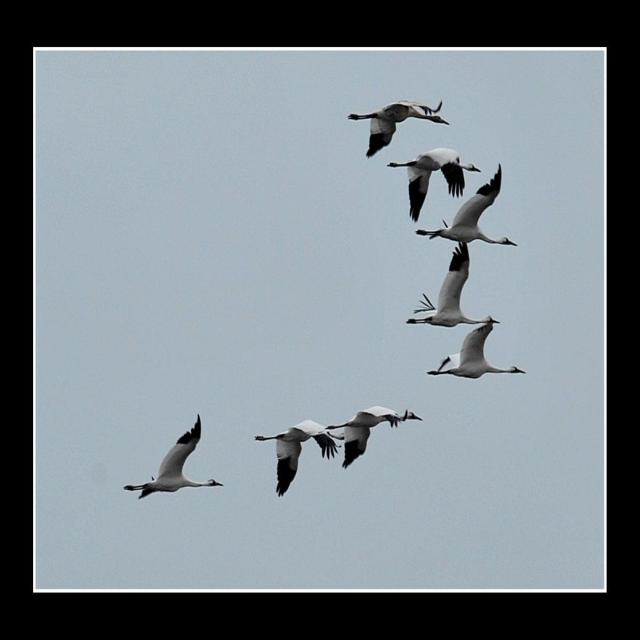bird: (403, 156, 515, 258), (120, 411, 222, 505), (408, 243, 504, 330), (314, 408, 428, 474), (390, 143, 472, 233), (424, 320, 521, 384), (346, 103, 452, 161), (256, 422, 324, 498)
